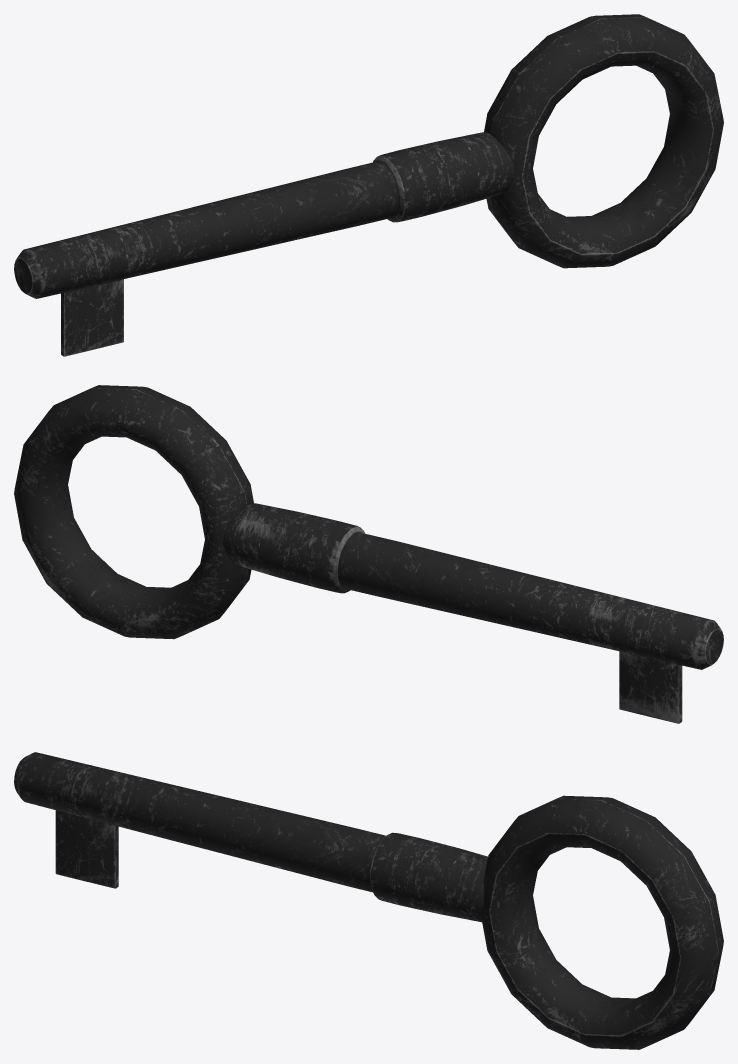
Rendered from old_key.glb.
The picture shows the model from 3 angles, top to bottom: view 1: azimuth 30°, elevation 25°; view 2: azimuth 150°, elevation 25°; view 3: azimuth 330°, elevation 25°; orthographic projection.
Visible parts, largest first — view 1: Old Key; view 2: Old Key; view 3: Old Key.
Part boxes in pixels (x1,y1,x2,y2): Old Key: (14,14,723,356); Old Key: (14,385,723,723); Old Key: (14,752,723,1049).
Bounding box in the file's own units: 3.74 × 1.26 × 0.33.
1 material, 1 textured.
